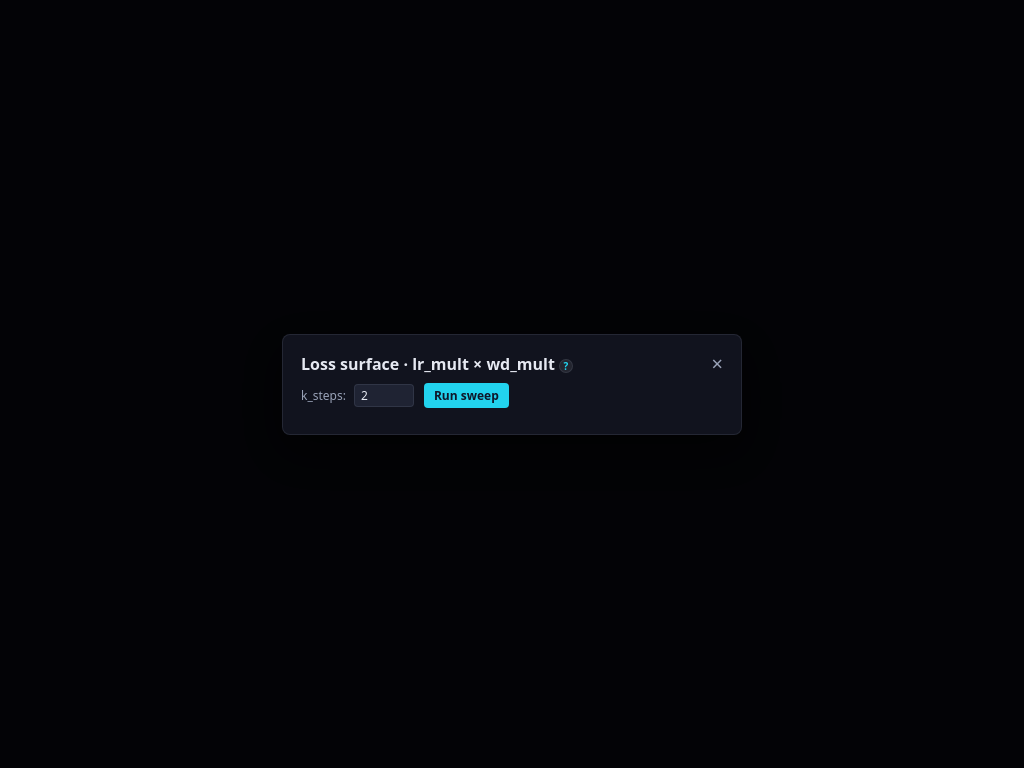
Test: V7-H33 LossSurfaceModal › renders error when rpc client missing
Click the button with test id "loss-surface-run" at (466, 395), box [424,382,509,408]
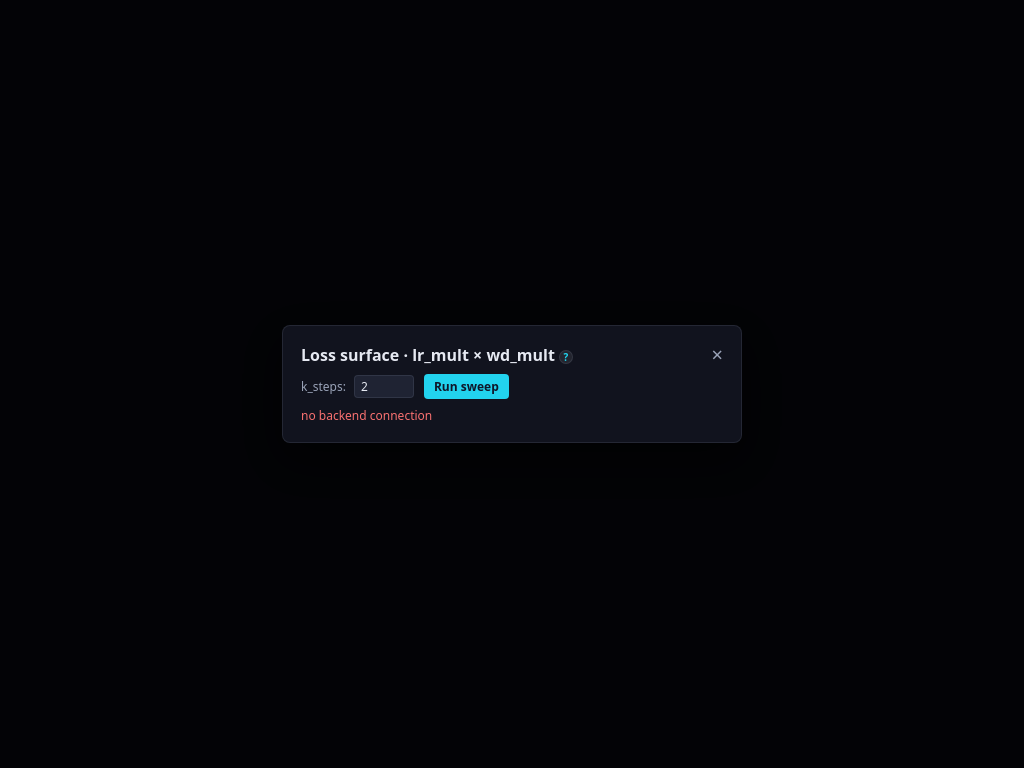
Check: the text with test id "loss-surface-error" shows "no backend", box [301,407,432,424]
